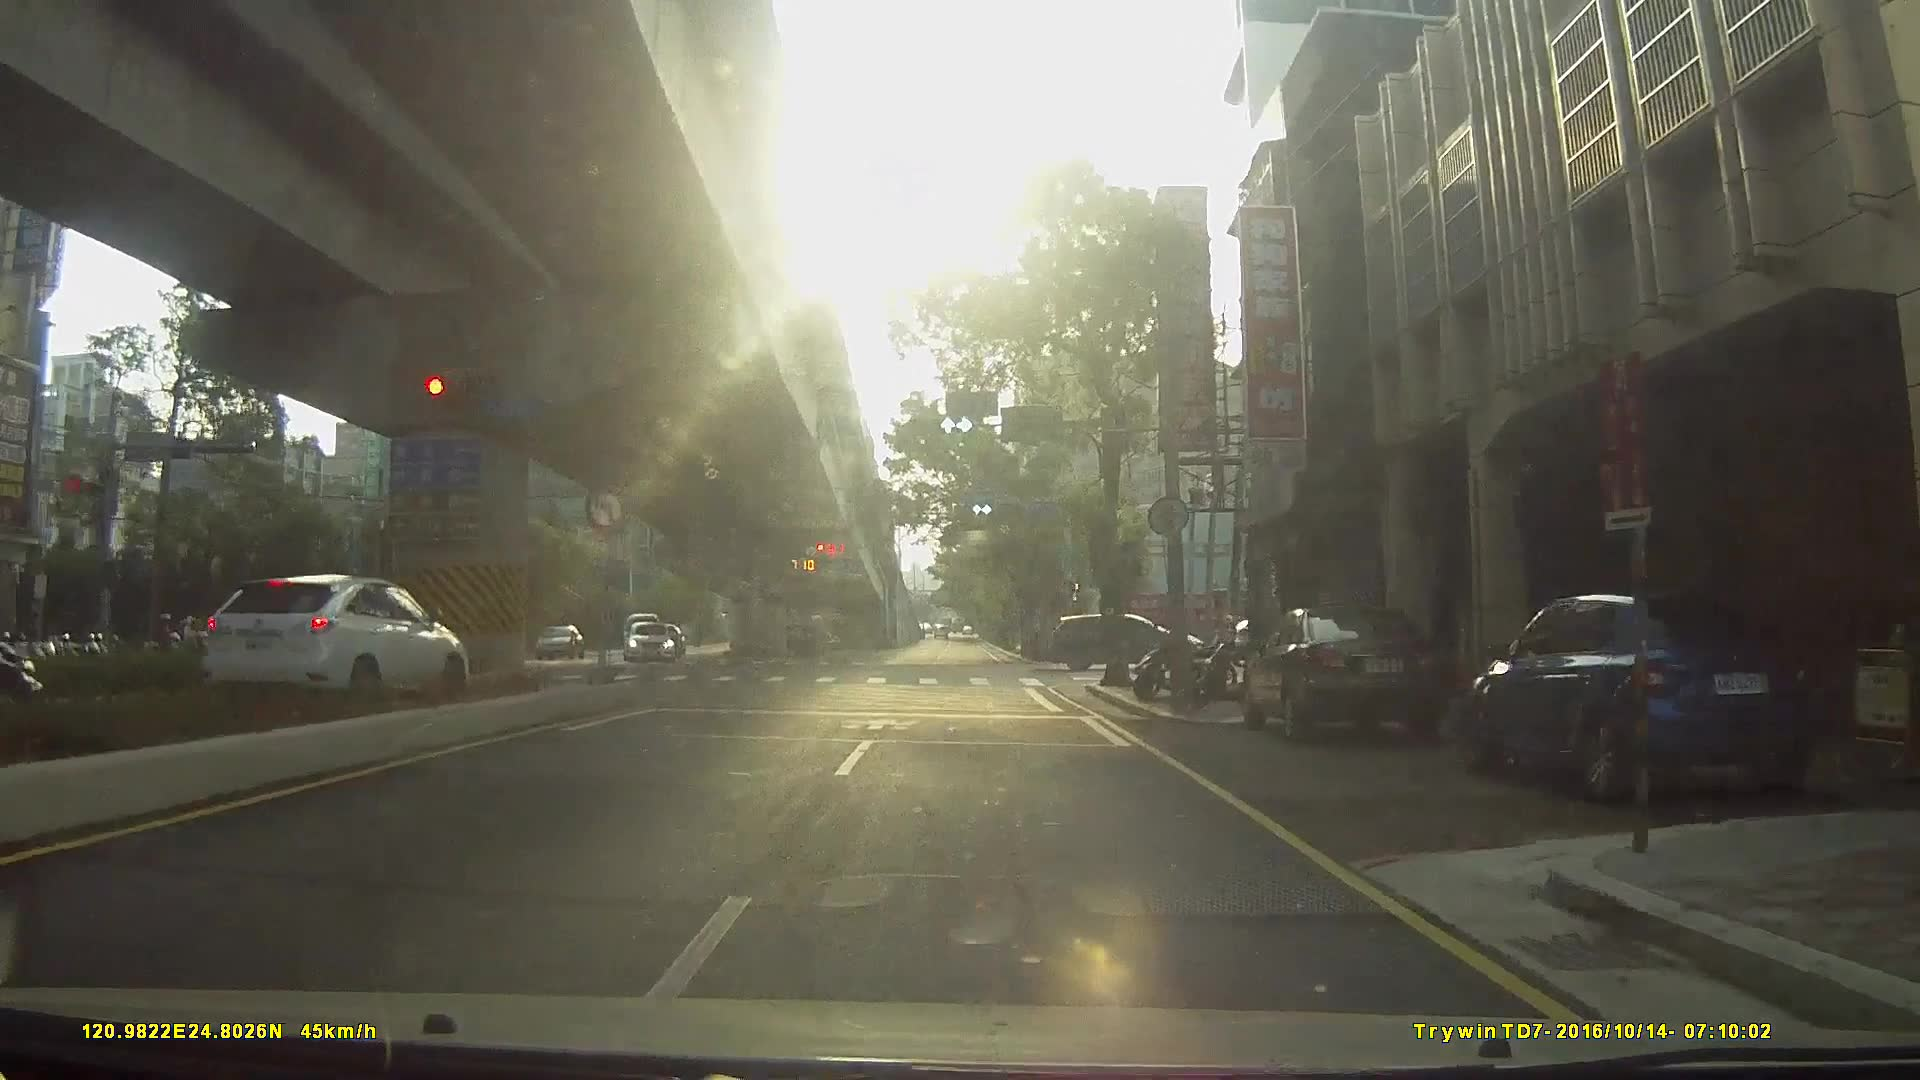vehicle: (1481, 588, 1847, 814), (183, 574, 477, 711), (1245, 603, 1460, 746), (1048, 609, 1215, 670), (1, 624, 54, 731), (622, 618, 673, 662), (527, 622, 582, 662)
